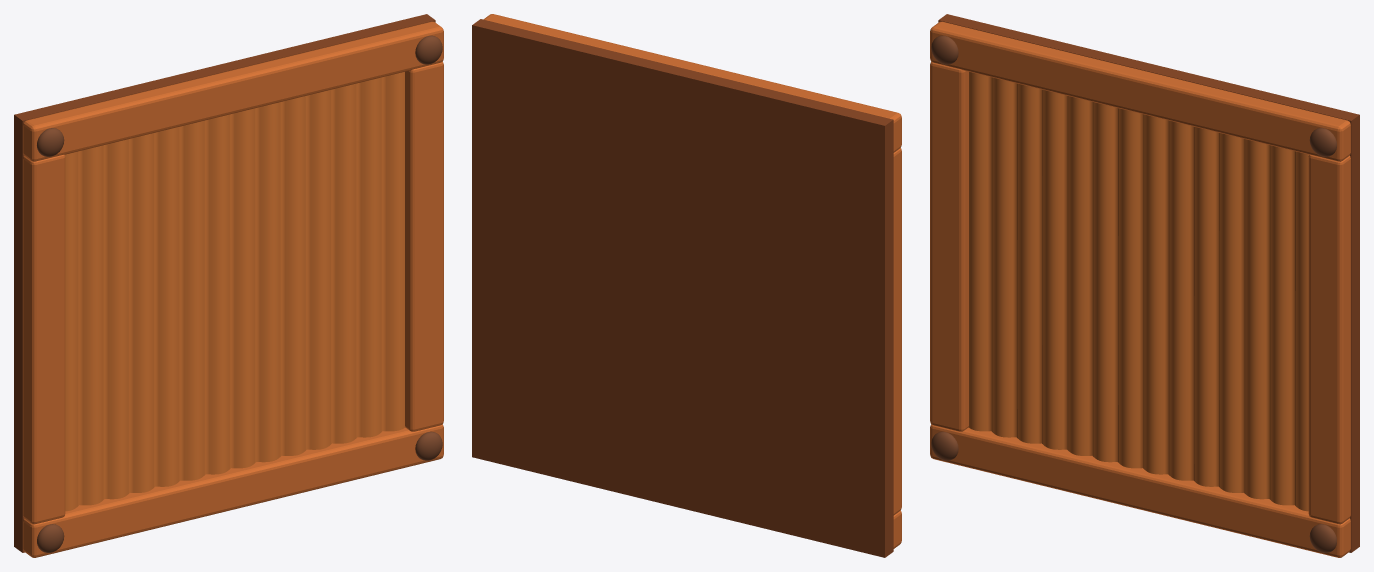
The model's file is empty_slot.glb.
3 views of the same model, side by side, from view 1: azimuth 30°, elevation 25°; view 2: azimuth 150°, elevation 25°; view 3: azimuth 330°, elevation 25° (orthographic).
Parts seen in each view (by area): view 1: empty_ribs, empty_rim_top, empty_rim_left, empty_rim_bottom, empty_rim_right, empty_back, empty_rivet_3, empty_rivet_1, empty_rivet_2, empty_rivet_0; view 2: empty_back, empty_rim_top, empty_rim_left; view 3: empty_ribs, empty_rim_top, empty_rim_right, empty_rim_bottom, empty_rim_left, empty_back, empty_rivet_2, empty_rivet_0, empty_rivet_3, empty_rivet_1.
Part boxes in pixels (x1,y1,x2,y2): empty_ribs: (65, 72, 405, 511); empty_rim_top: (23, 21, 443, 161); empty_rim_left: (23, 154, 65, 524); empty_rim_bottom: (23, 424, 443, 557); empty_rim_right: (405, 61, 443, 431); empty_back: (14, 14, 435, 552); empty_rivet_3: (415, 35, 442, 64); empty_rivet_1: (415, 431, 442, 460); empty_rivet_2: (37, 128, 64, 156); empty_rivet_0: (37, 524, 64, 552); empty_back: (472, 19, 893, 557); empty_rim_top: (483, 14, 901, 152); empty_rim_left: (893, 148, 901, 515); empty_ribs: (968, 72, 1308, 511); empty_rim_top: (930, 21, 1350, 161); empty_rim_right: (1308, 154, 1350, 524); empty_rim_bottom: (930, 424, 1350, 557); empty_rim_left: (930, 61, 968, 431); empty_back: (938, 14, 1359, 552); empty_rivet_2: (931, 35, 958, 64); empty_rivet_0: (931, 431, 958, 460); empty_rivet_3: (1309, 128, 1336, 156); empty_rivet_1: (1309, 524, 1336, 552).
Bounding box in the file's own units: 0.84 × 0.84 × 0.0819.
